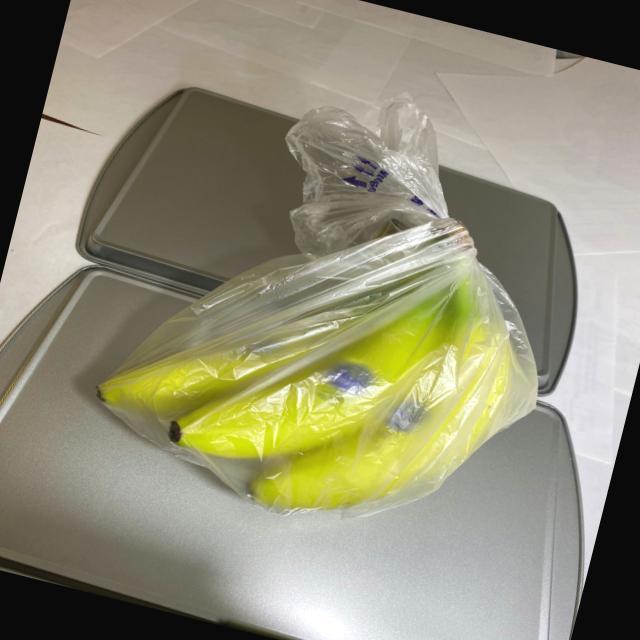banana: (69, 138, 563, 570)
